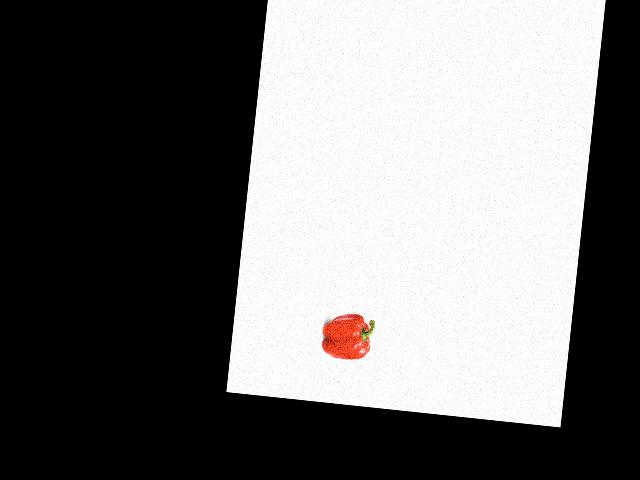bell_pepper: (319, 310, 376, 363)
